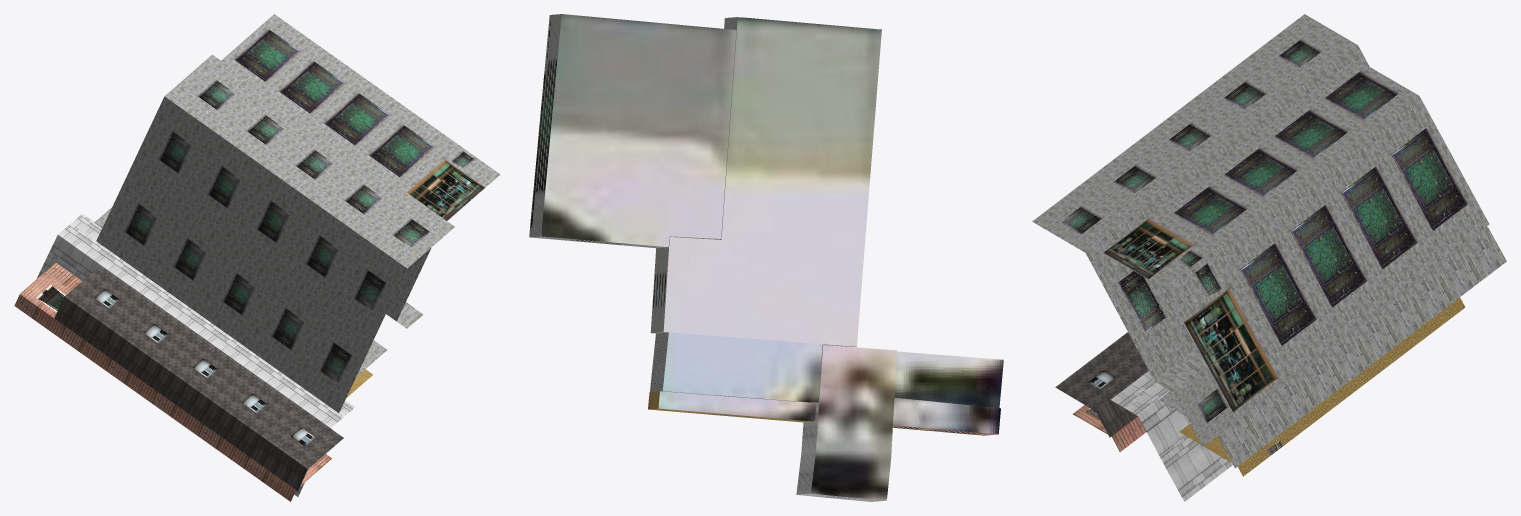
The picture shows the model from 3 angles, left to right: view 1: azimuth 30°, elevation 25°; view 2: azimuth 150°, elevation 25°; view 3: azimuth 270°, elevation 25°; orthographic projection. The views are drawn at different scales.
Size of the model in its own units: 25.28 by 23.52 by 22.96.
Materials: 21 (21 with a texture image).
